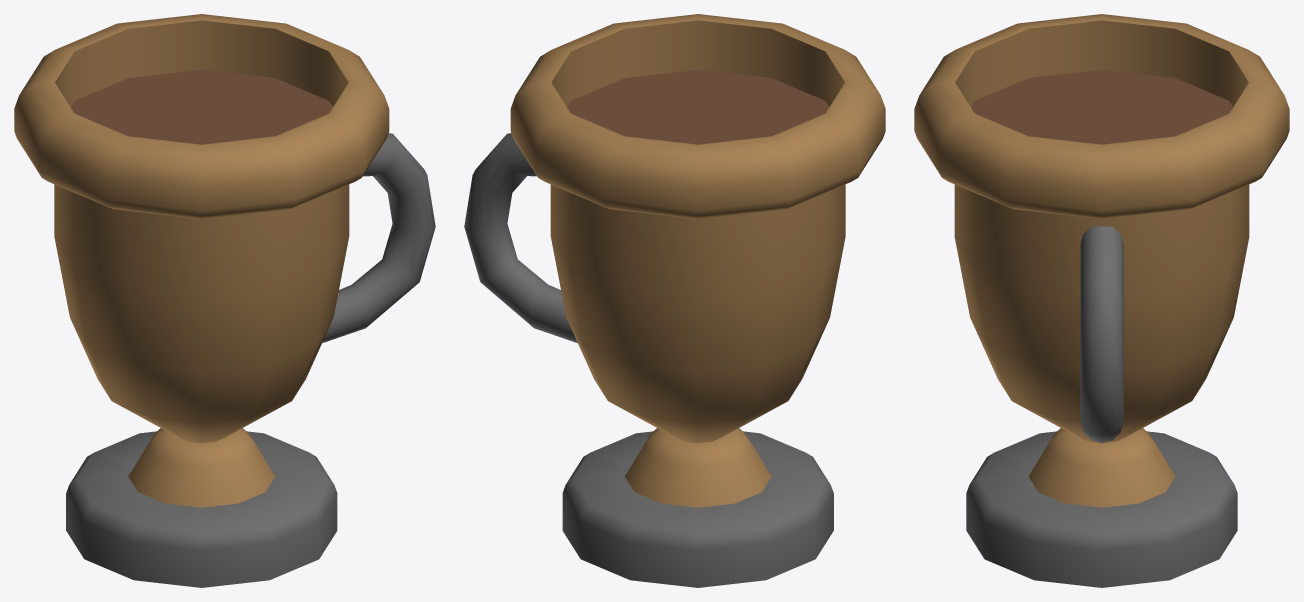
Rendered from Old Cup.fbx.
The picture shows the model from 3 angles, left to right: view 1: azimuth 30°, elevation 25°; view 2: azimuth 150°, elevation 25°; view 3: azimuth 270°, elevation 25°; orthographic projection.
Parts seen in each view (by area): view 1: Old Cup; view 2: Old Cup; view 3: Old Cup.
Part boxes in pixels (x1=…): Old Cup: x1=14, y1=14, x2=435, y2=587; Old Cup: x1=464, y1=14, x2=885, y2=587; Old Cup: x1=914, y1=14, x2=1289, y2=587.
Size of the model in its own units: 0.1035 by 0.1128 by 0.0854.
